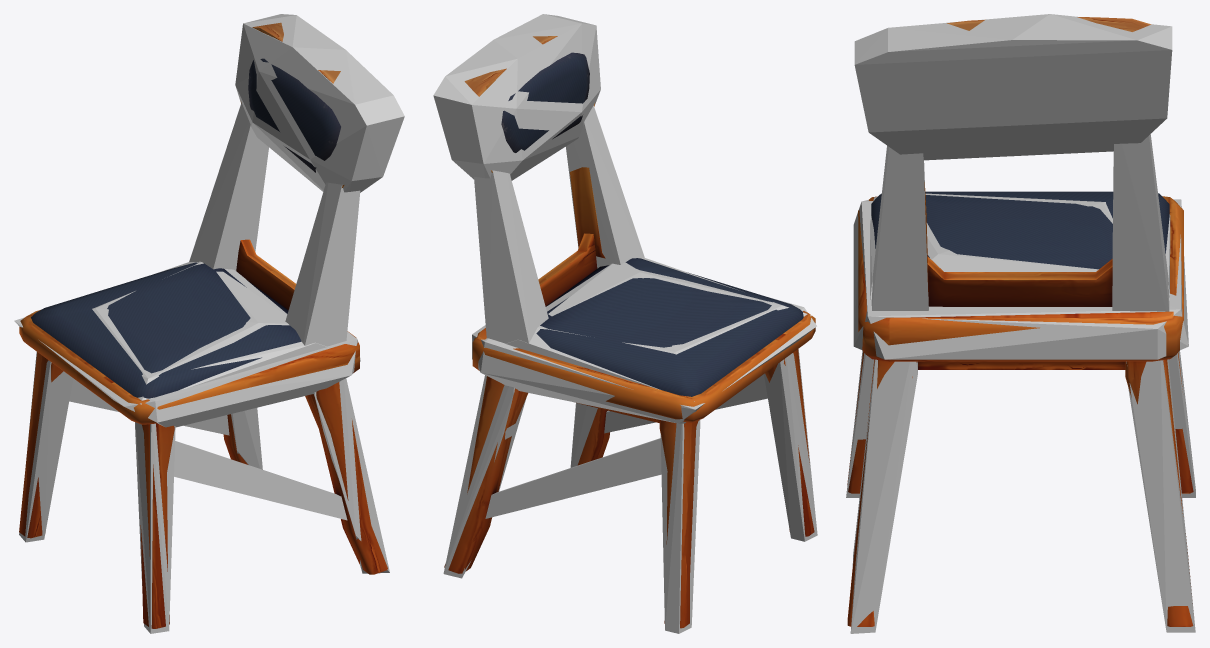
File: SM_Chair01.fbx
The picture shows the model from 3 angles, left to right: view 1: azimuth 30°, elevation 25°; view 2: azimuth 150°, elevation 25°; view 3: azimuth 270°, elevation 25°; orthographic projection. The views are drawn at different scales.
Parts seen in each view (by area): view 1: SM_Chair01_ConvexHulls, SM_Chair01; view 2: SM_Chair01_ConvexHulls, SM_Chair01; view 3: SM_Chair01_ConvexHulls, SM_Chair01.
Part boxes in pixels (bbox=[...]): SM_Chair01_ConvexHulls: bbox=[14, 14, 404, 633]; SM_Chair01: bbox=[19, 22, 387, 628]; SM_Chair01_ConvexHulls: bbox=[433, 14, 817, 633]; SM_Chair01: bbox=[444, 36, 815, 628]; SM_Chair01_ConvexHulls: bbox=[846, 14, 1195, 633]; SM_Chair01: bbox=[847, 17, 1193, 626].
Size of the model in its own units: 57.06 by 49.64 by 95.65.
Materials: 2 (1 with a texture image).
